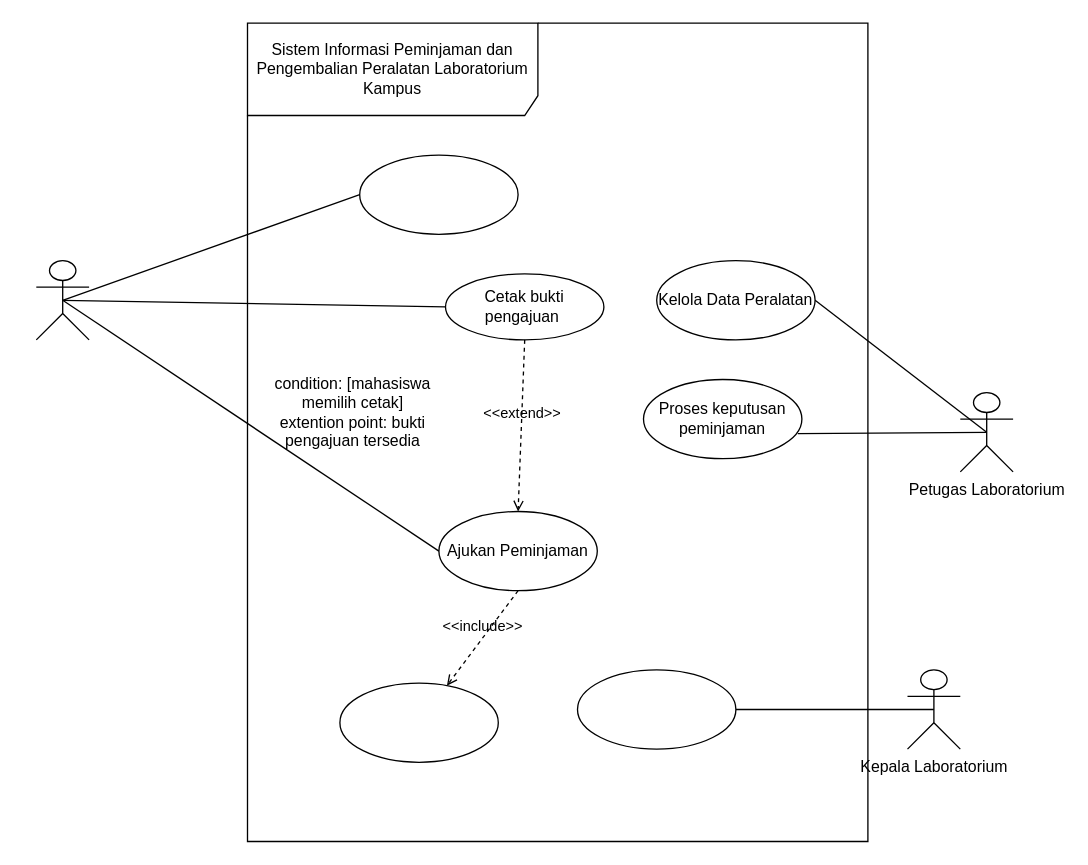
This 1088x865 diagram has some shape labels left out. Each missing label, with the centre of its shape:
"Lihat Ketersediaan Peralatan" belongs at point 438,194.
"Lihat laporan peminjaman" belongs at point 656,709.
"Mahasiswa" belongs at point 62,299.
"Periksa ketersediaan" belongs at point 418,722.
